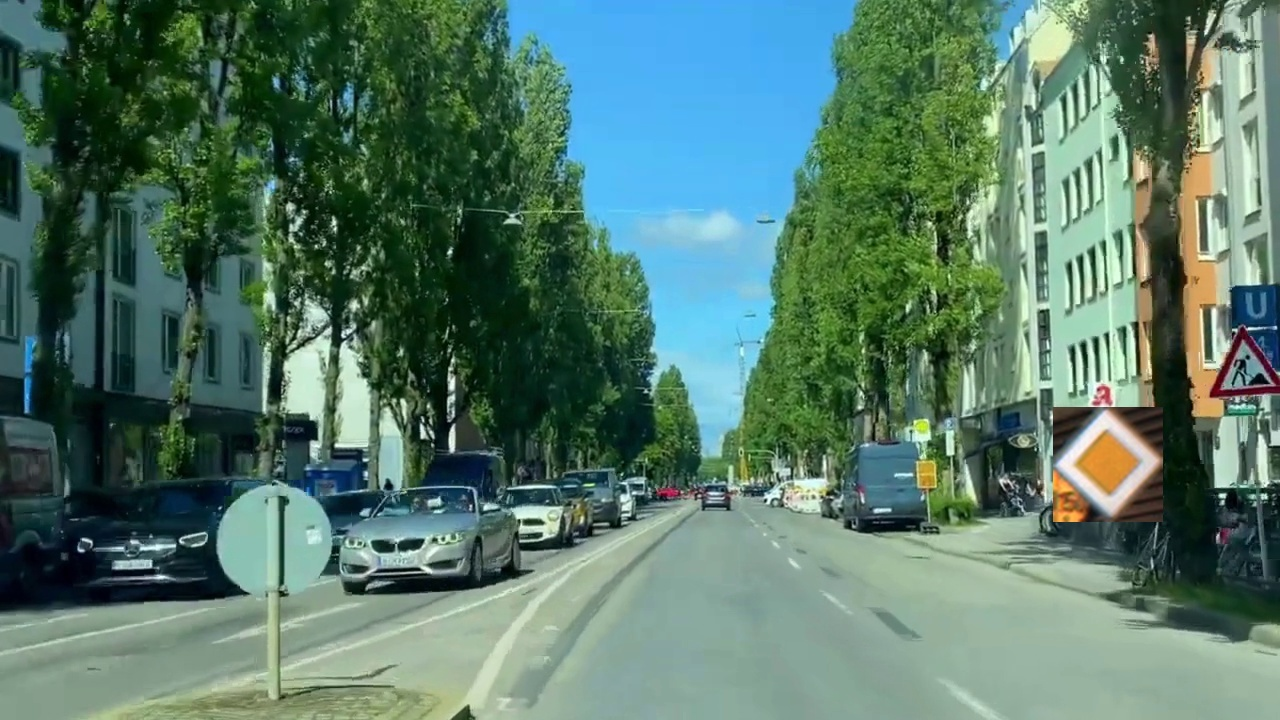Priority road: (1053, 407, 1163, 522)
